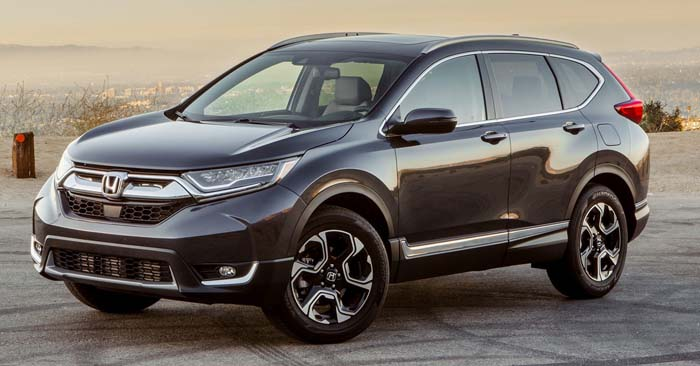pickup: (29, 29, 653, 345)
